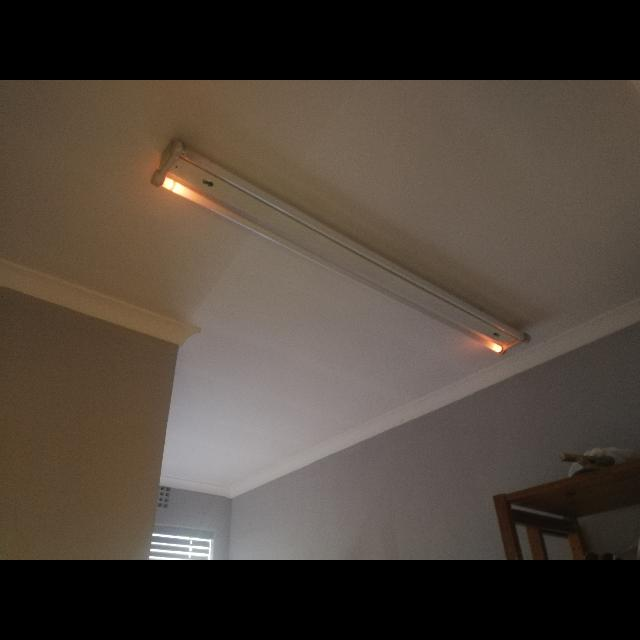Straight-Tube-Fluorescent-Lamp: (128, 133, 572, 385)
